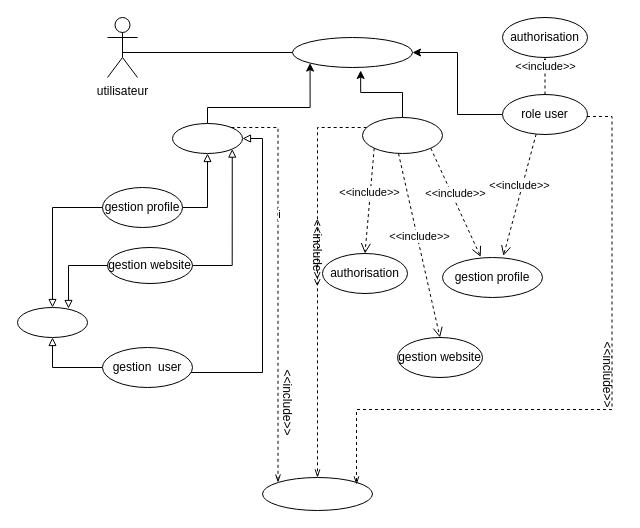
Some shapes in this 640 by 528 pixel diagram are drawn without their labels. Here are the shapes that lost their labels. From the top down, the box of each, then its label:
(292, 36, 412, 68): role
(172, 122, 242, 154): role super
(362, 116, 442, 154): role admin
(16, 306, 88, 338): gestion
(262, 476, 372, 510): authentiffication
